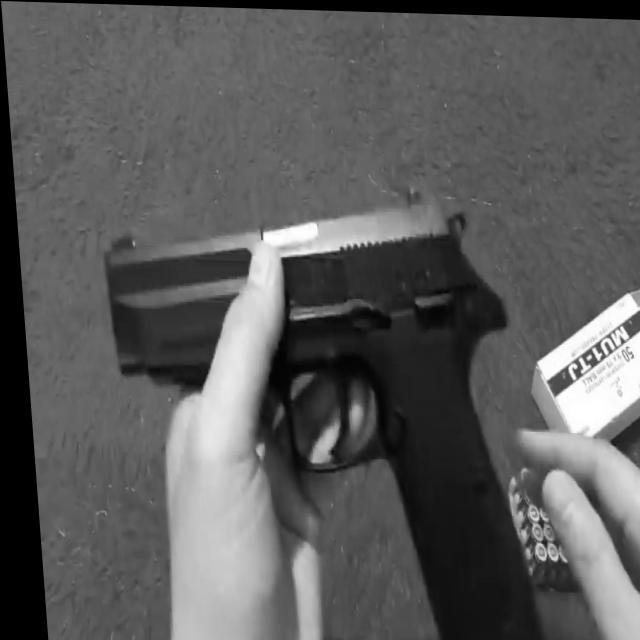handgun: (62, 158, 540, 640)
